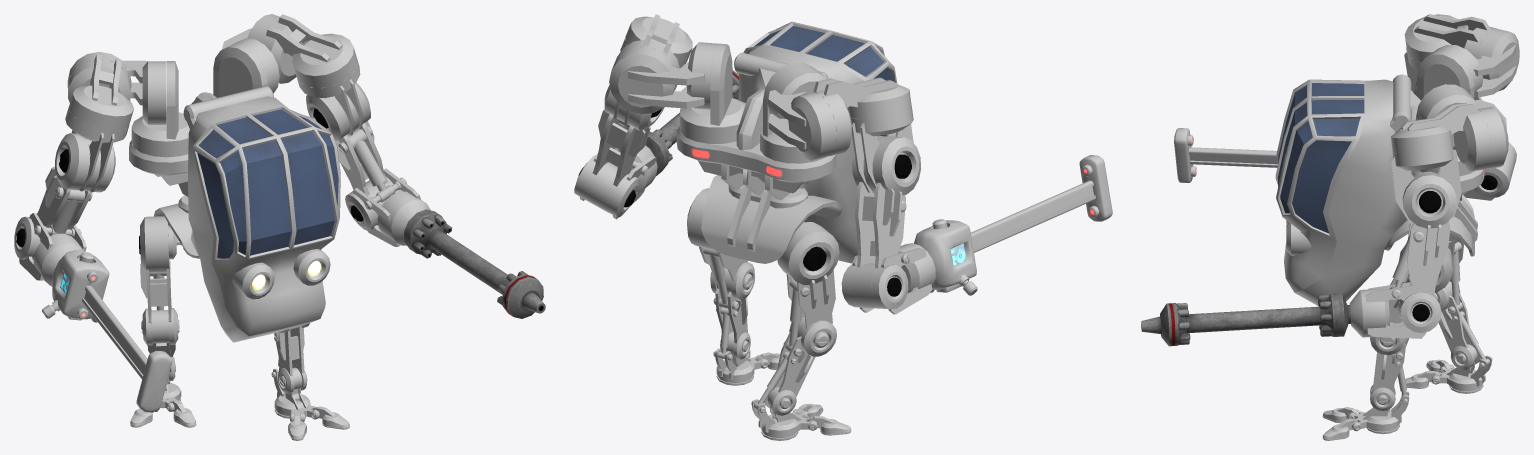
The model's file is SM_LightMeleeMechExploded.fbx.
3 renders of one model, left to right at view 1: azimuth 30°, elevation 25°; view 2: azimuth 150°, elevation 25°; view 3: azimuth 270°, elevation 25°, orthographic. The views are drawn at different scales.
Visible parts, largest first — view 1: SM_CockpitDoorSplit, SM_MainBodySplit, SM_LaserSwordSplit, SM_ElectroMaceSplit, SM_LeftShoudler3Split, SM_RightShoulder3Split, SM_RightArmSplit, SM_RightThighSplit, SM_LeftForearm1Split, SM_LeftArmSplit, SM_RightForearmSplit, SM_RightShoulder1Split (+11 smaller); view 2: SM_MainBodySplit, SM_LaserSwordSplit, SM_RightArmSplit, SM_CockpitDoorSplit, SM_LeftShoudler2Split, SM_RightThighSplit, SM_RightShoulder2Split, SM_LeftArmSplit, SM_RightForearmSplit, SM_RightShoulder3Split, SM_LeftShoudler1Split, SM_RightShoulder4Split (+11 smaller); view 3: SM_CockpitDoorSplit, SM_MainBodySplit, SM_ElectroMaceSplit, SM_LeftArmSplit, SM_LeftShoudler3Split, SM_LeftForearm1Split, SM_RightShoulder2Split, SM_RightShoulder3Split, SM_LaserSwordSplit, SM_LeftShoudler4Split, SM_LeftShoudler2Split, SM_LeftFootSplit (+10 smaller).
Boxes of the visible parts, box(x1,y1,x2,y2) form: SM_CockpitDoorSplit: box(190, 86, 340, 336); SM_MainBodySplit: box(129, 86, 318, 342); SM_LaserSwordSplit: box(42, 250, 172, 412); SM_ElectroMaceSplit: box(404, 209, 545, 318); SM_LeftShoudler3Split: box(260, 14, 357, 88); SM_RightShoulder3Split: box(68, 54, 133, 130); SM_RightArmSplit: box(32, 133, 115, 260); SM_RightThighSplit: box(139, 216, 179, 345); SM_LeftForearm1Split: box(345, 168, 430, 246); SM_LeftArmSplit: box(306, 82, 395, 215); SM_RightForearmSplit: box(14, 213, 86, 286); SM_RightShoulder1Split: box(131, 61, 189, 157); SM_MainBodySplit: box(676, 47, 864, 263); SM_LaserSwordSplit: box(914, 155, 1112, 295); SM_RightArmSplit: box(849, 136, 920, 308); SM_CockpitDoorSplit: box(737, 21, 897, 136); SM_LeftShoudler2Split: box(609, 42, 717, 114); SM_RightThighSplit: box(777, 222, 839, 356); SM_RightShoulder2Split: box(767, 66, 836, 160); SM_LeftArmSplit: box(583, 85, 664, 212); SM_RightForearmSplit: box(841, 243, 935, 314); SM_RightShoulder3Split: box(813, 77, 911, 155); SM_LeftShoudler1Split: box(680, 43, 745, 143); SM_RightShoulder4Split: box(851, 106, 913, 193); SM_CockpitDoorSplit: box(1275, 75, 1411, 292); SM_MainBodySplit: box(1295, 74, 1484, 306); SM_ElectroMaceSplit: box(1141, 293, 1351, 346); SM_LeftArmSplit: box(1398, 171, 1456, 324); SM_LeftShoudler3Split: box(1390, 102, 1491, 171); SM_LeftForearm1Split: box(1349, 282, 1441, 338); SM_RightShoulder2Split: box(1430, 28, 1519, 97); SM_RightShoulder3Split: box(1404, 14, 1495, 62); SM_LaserSwordSplit: box(1174, 128, 1277, 182); SM_LeftShoudler4Split: box(1390, 146, 1461, 223); SM_LeftShoudler2Split: box(1419, 88, 1508, 169); SM_LeftFootSplit: box(1322, 391, 1409, 440).
Bounding box in the file's own units: 390 × 332 × 335.
